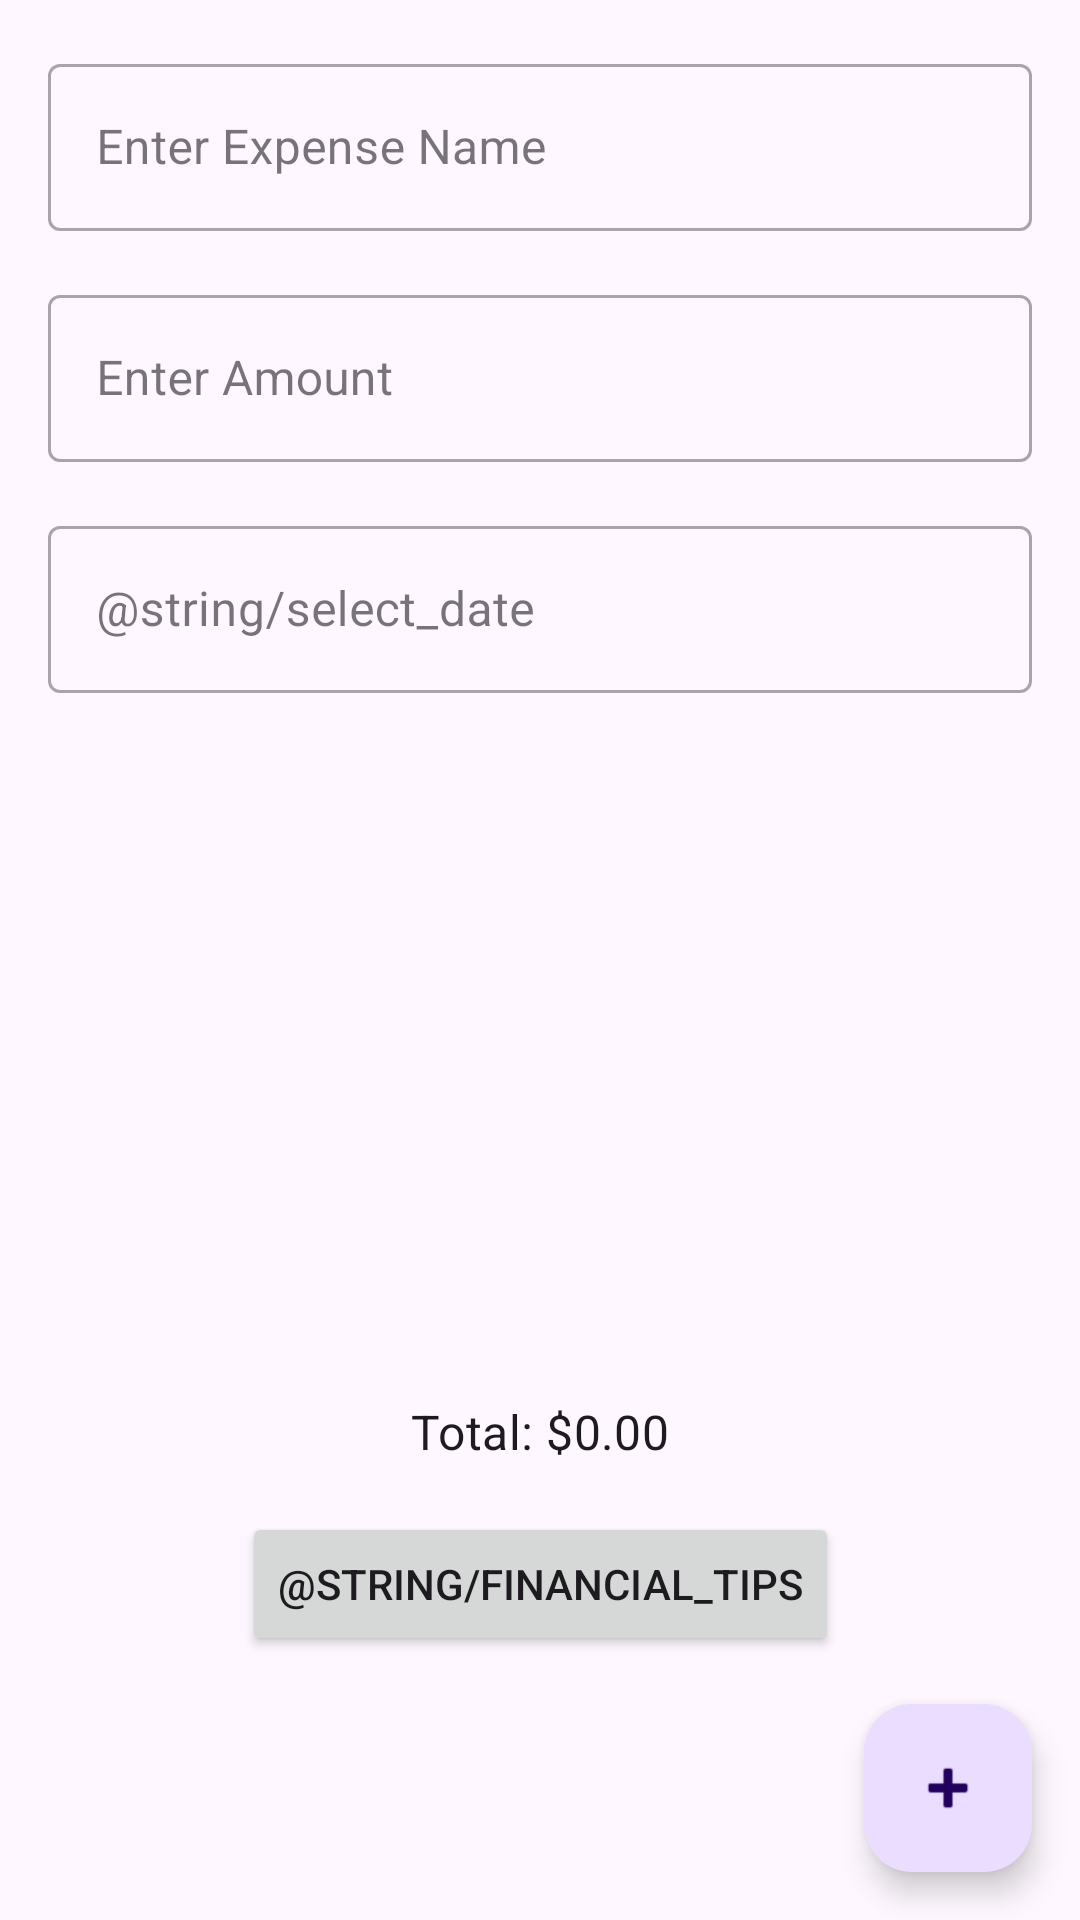

Where to tap for icons on this 1080px x 1920px app screen, as [x,y]:
Add Expense: [948,1788]
